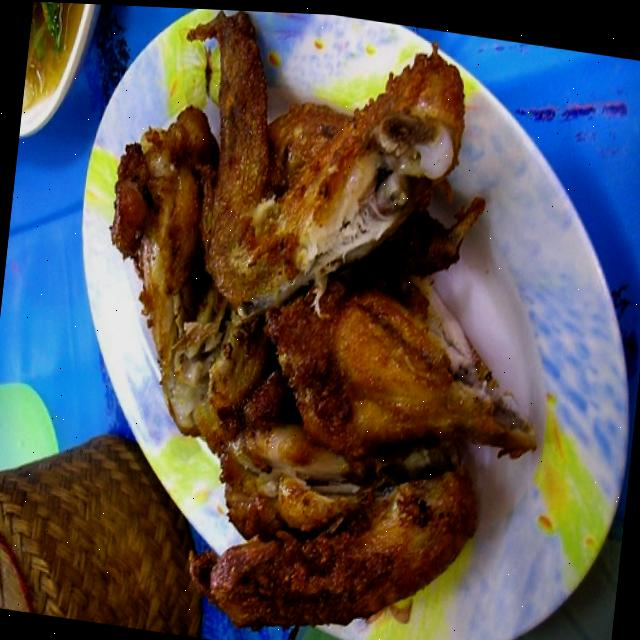鸡肉料理 含炸鸡: (34, 1, 601, 640)
